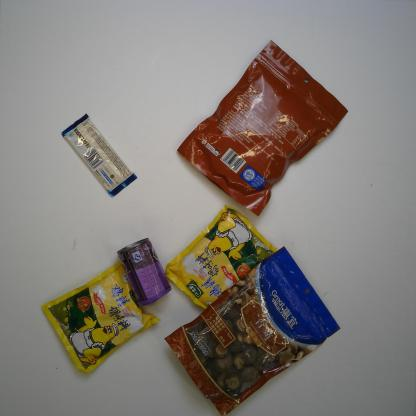Canned Food: (115, 236, 172, 307)
Chocolate: (59, 112, 139, 198)
Dried Food: (174, 38, 350, 218), (163, 245, 342, 416)
Seasoner: (40, 258, 162, 375), (164, 203, 279, 310)
